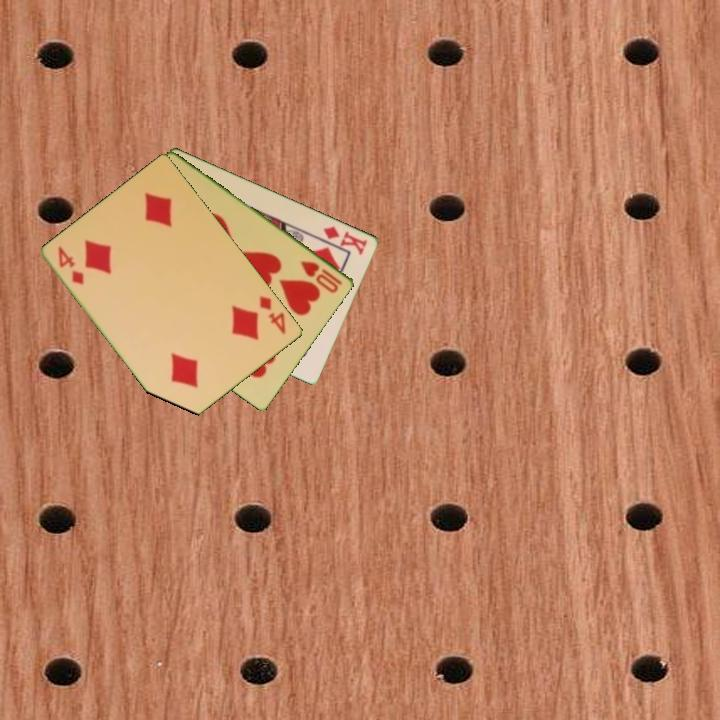10h: (297, 257, 346, 296)
4d: (256, 292, 289, 337), (55, 242, 87, 288)
Kd: (320, 222, 370, 257)
